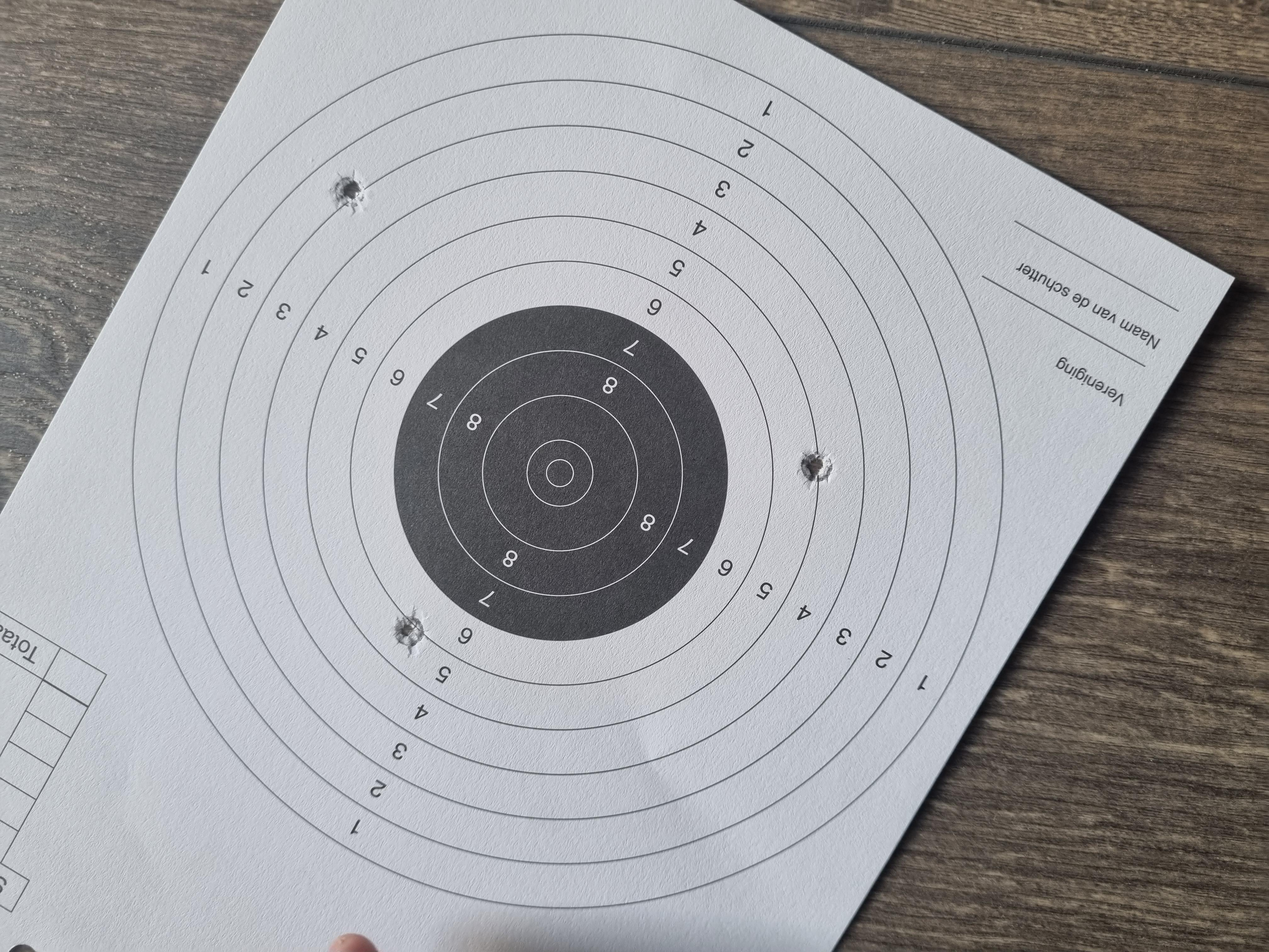hole: (983, 246, 1039, 280), (396, 293, 457, 322), (620, 599, 670, 628)
